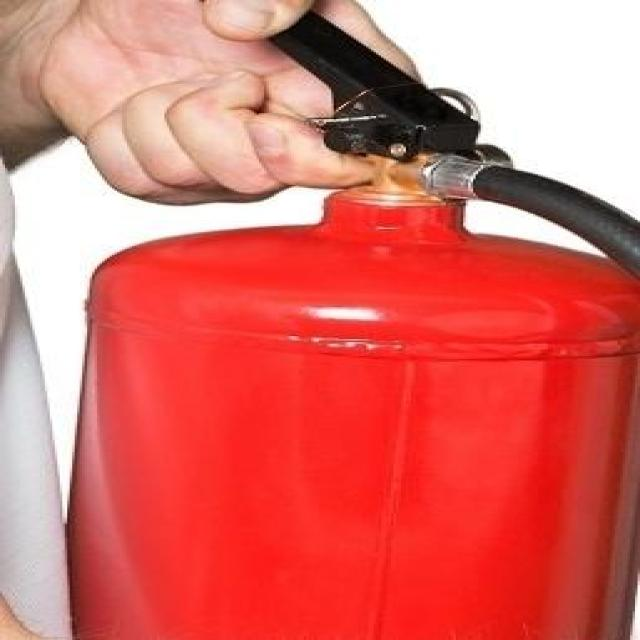fire_extinguisher: (32, 0, 637, 638)
